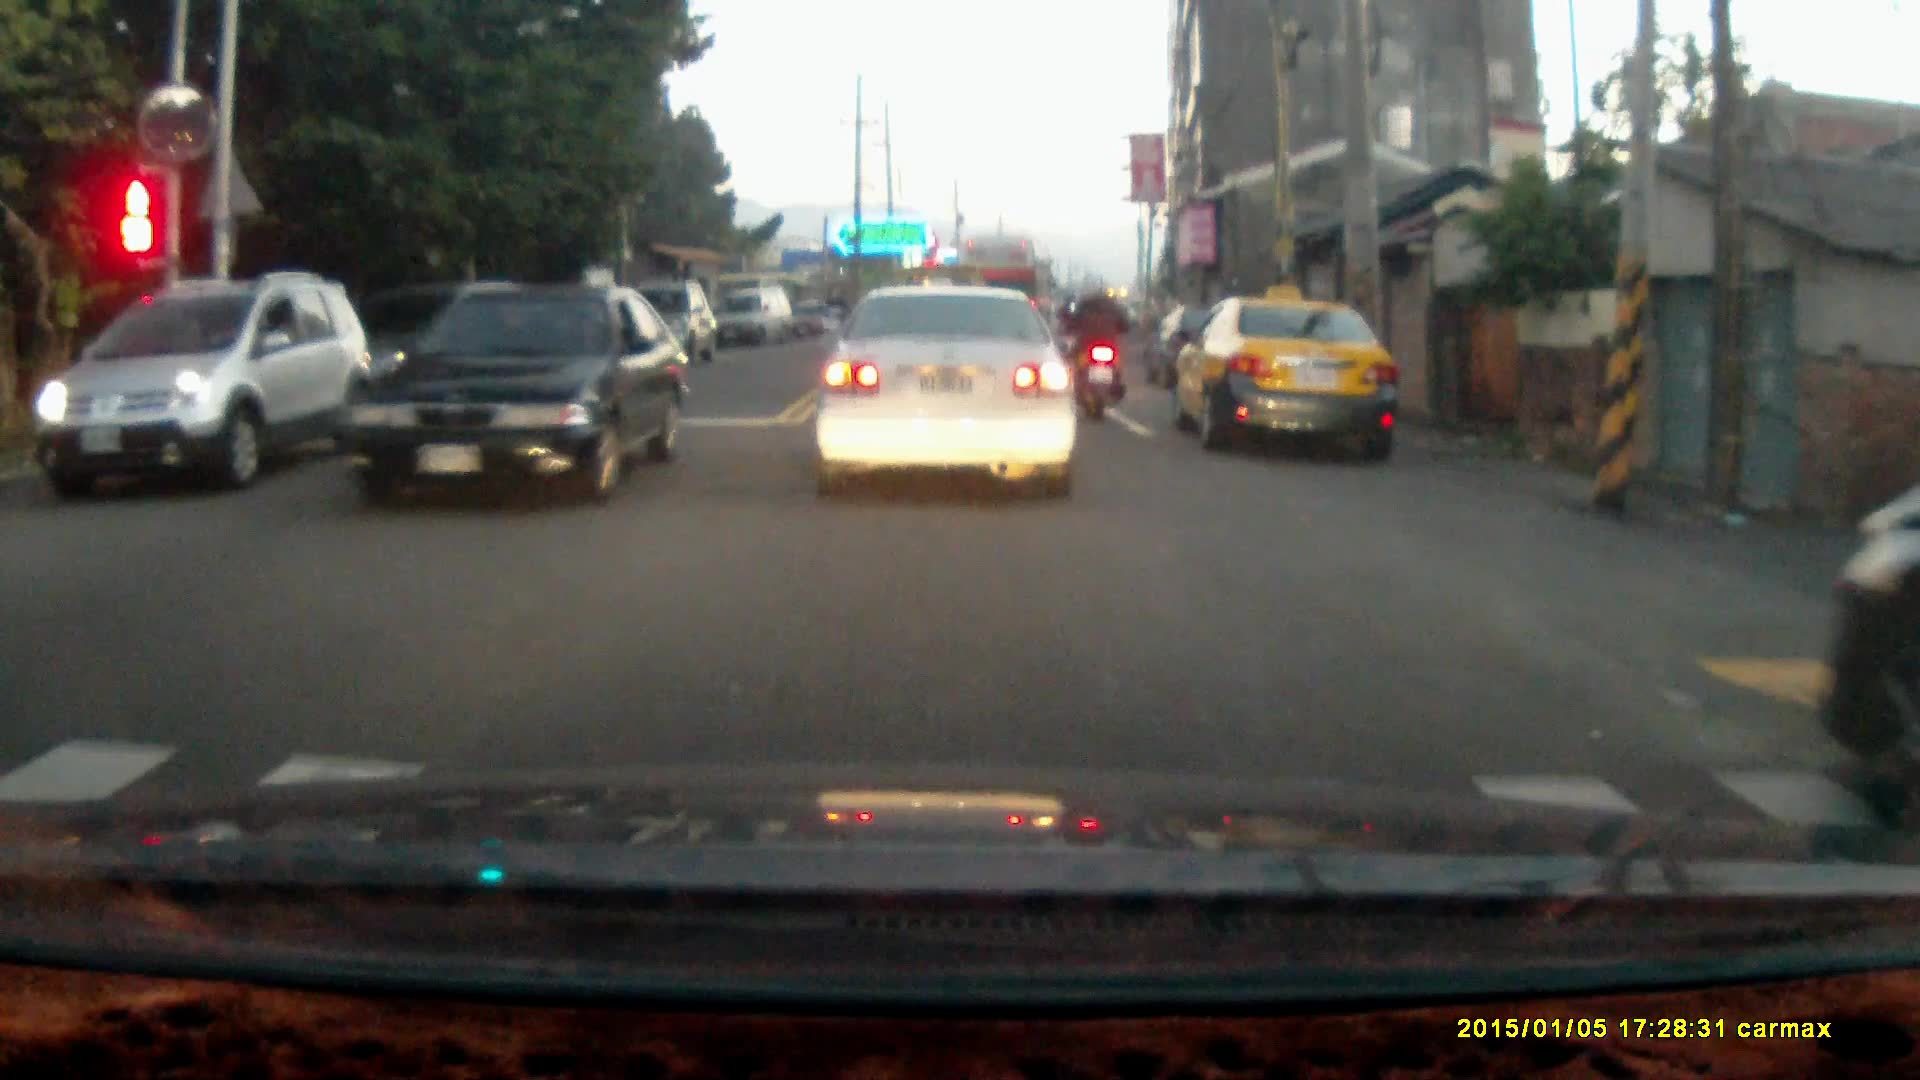rider: (1067, 273, 1133, 422), (814, 281, 847, 349)
vehicle: (341, 286, 686, 508), (29, 269, 358, 493), (814, 281, 1085, 499), (1178, 297, 1400, 457), (1821, 495, 1920, 796), (624, 277, 715, 374), (720, 288, 794, 351)
